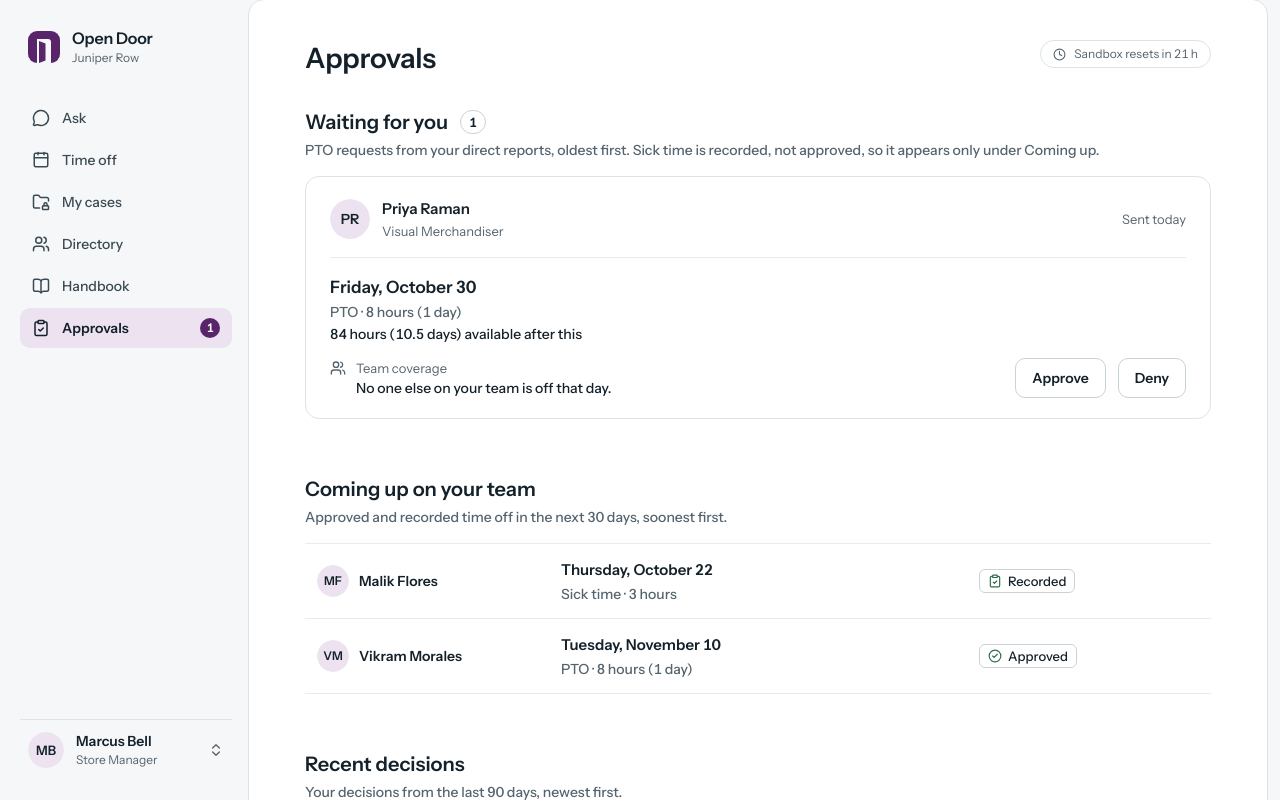
Scenario: Approvals: deciding › moves focus to the heading when the last waiting request is decided
(page scrolled)
expect the heading "Waiting for you 1" is shown: met, box [305,110,486,134]
expect the heading "Recent decisions" is shown: met, box [305,752,465,776]
Click the button "Approve" at (1060, 378), box [1015,358,1106,398]
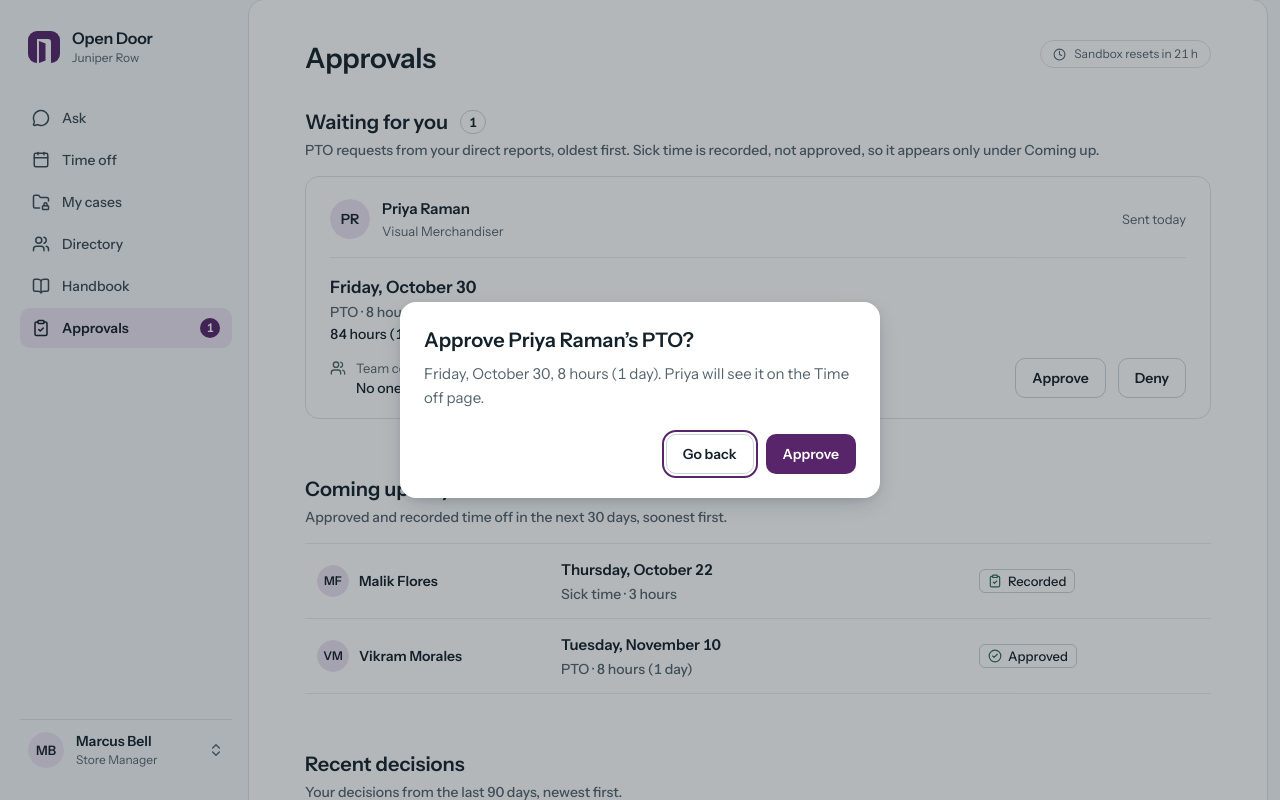
Click the button "Approve" at (811, 454), box [766,434,856,474]
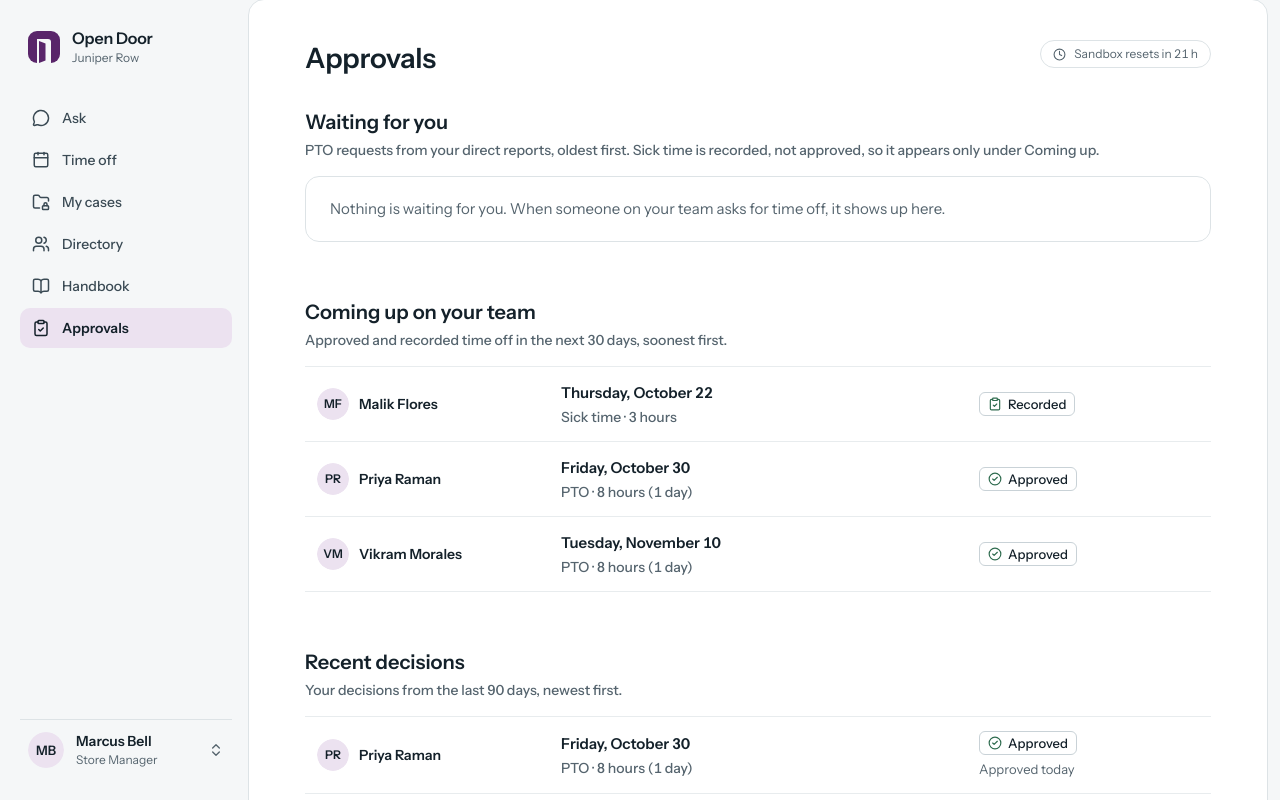
expect the dialog is gone: met
expect the text "Nothing is waiting for you. When someone on your team asks for time off, it shows up here." is shown: met, box [330,199,945,218]
